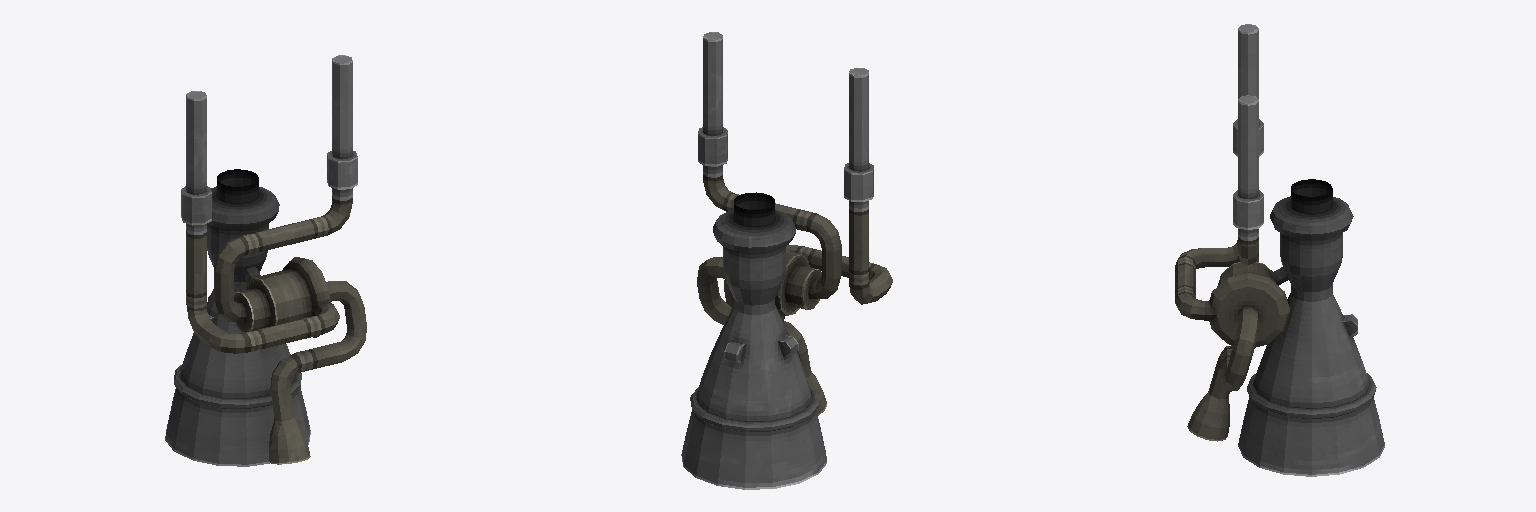
3 views of the same model, side by side, from view 1: azimuth 30°, elevation 25°; view 2: azimuth 150°, elevation 25°; view 3: azimuth 270°, elevation 25° (orthographic).
Parts seen in each view (by area): view 1: nozzle1; view 2: nozzle1; view 3: nozzle1.
Boxes of the visible parts, box(x1,y1,x2,y2) form: nozzle1: box(165, 55, 366, 466); nozzle1: box(681, 32, 892, 489); nozzle1: box(1175, 24, 1384, 476).
Bounding box in the file's own units: 0.2438 × 0.5 × 0.25.
Materials: 1 (1 with a texture image).